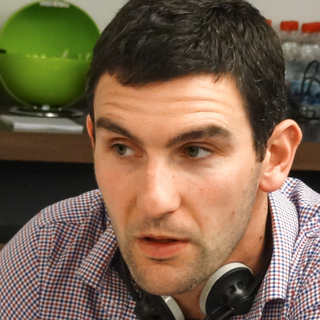eye: (174, 139, 223, 164), (103, 134, 143, 161)
